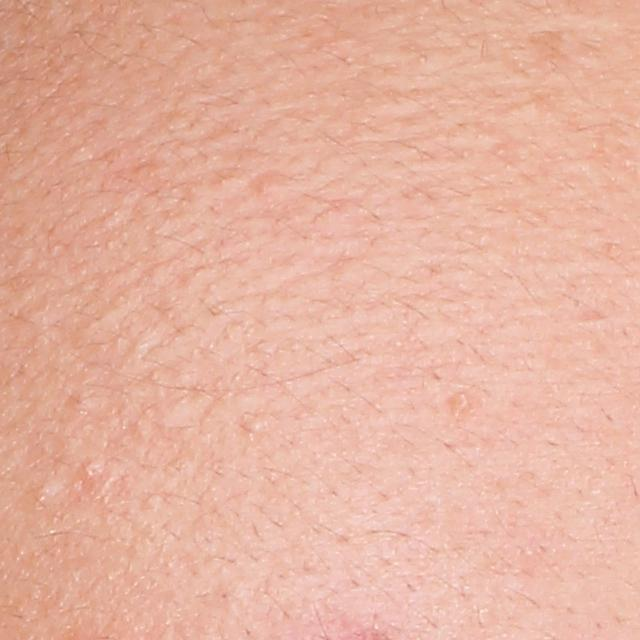comedo: (31, 479, 58, 505)
